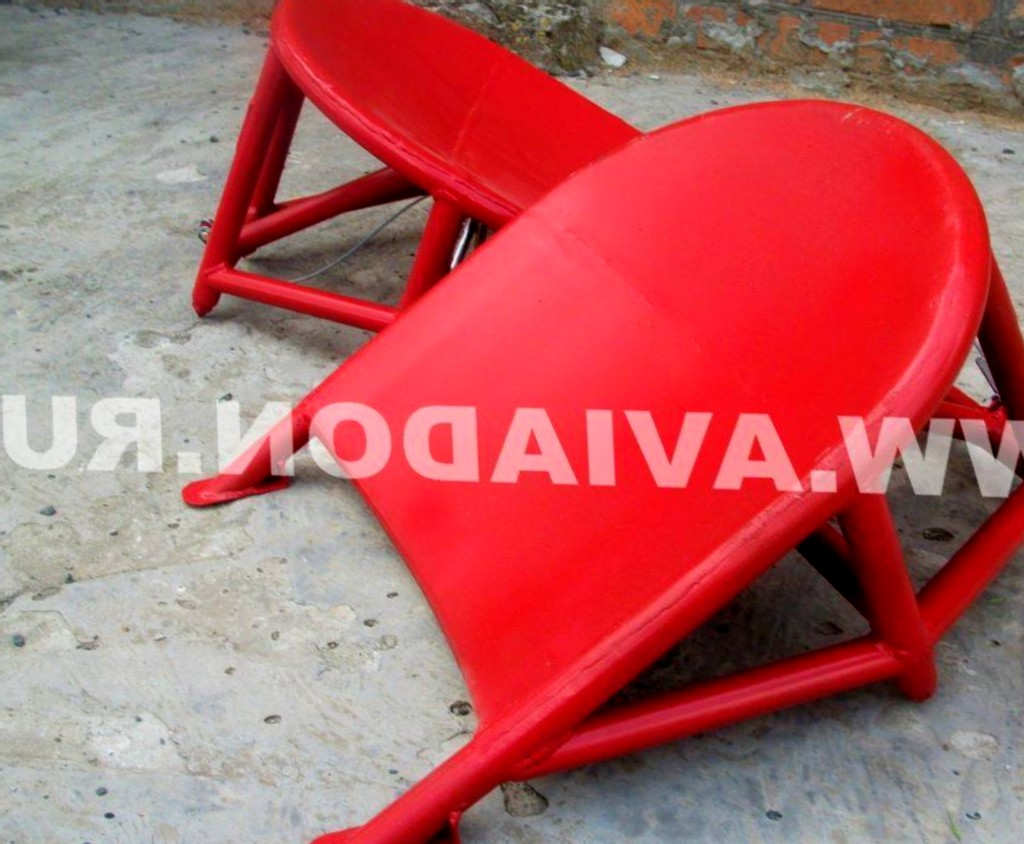chock: (165, 94, 1024, 844), (169, 0, 651, 324)
